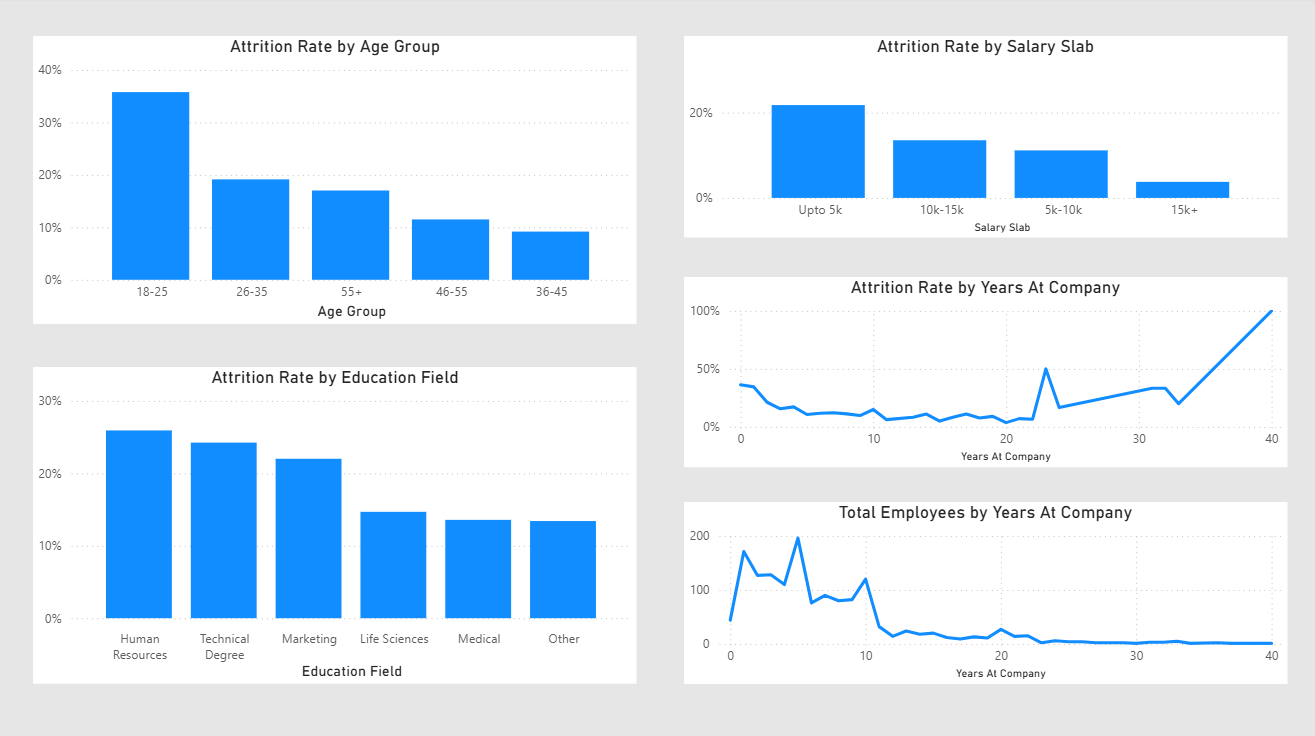

What the dashboard file says about the page in this screenshot:
{"tool":"powerbi","page":{"name":"Attrition Analysis","canvas":[1280,720],"ordinal":1},"visuals":[{"type":"columnChart","title":"Attrition Rate by Age Group","fields":{"Y":["FactEmployee.Attrition Rate"],"Category":["DimAgeGroup.Age Group"]},"box":[32.1,37.9,587.5,280.1],"z":0},{"type":"columnChart","title":"Attrition Rate by Salary Slab","fields":{"Y":["FactEmployee.Attrition Rate"],"Category":["DimSalarySlab.SalarySlab"]},"box":[665.3,37.9,586.5,196.5],"z":1000},{"type":"columnChart","title":"Attrition Rate by Education Field","fields":{"Y":["FactEmployee.Attrition Rate"],"Category":["DimEducationField.EducationField"]},"box":[32.1,359.9,587.5,308.3],"z":2000},{"type":"lineChart","title":"Attrition Rate by Years At Company","fields":{"Y":["FactEmployee.Attrition Rate"],"Category":["FactEmployee.YearsAtCompany"]},"box":[665.3,272.3,586.5,184.8],"z":3000},{"type":"lineChart","title":"Total Employees by Years At Company","fields":{"Y":["FactEmployee.Total Employees"],"Category":["FactEmployee.Years At Company"]},"box":[665.3,491.2,586.5,177],"z":4000}]}

Visuals, with their boxes in screenshot pixels (x1, y1, x2, y2), scaled from the page's 1280x720 canvas onto the 1315x736 screenshot:
"Attrition Rate by Age Group" columnChart: [33,39,637,325]
"Attrition Rate by Salary Slab" columnChart: [683,39,1286,240]
"Attrition Rate by Education Field" columnChart: [33,368,637,683]
"Attrition Rate by Years At Company" lineChart: [683,278,1286,467]
"Total Employees by Years At Company" lineChart: [683,502,1286,683]
